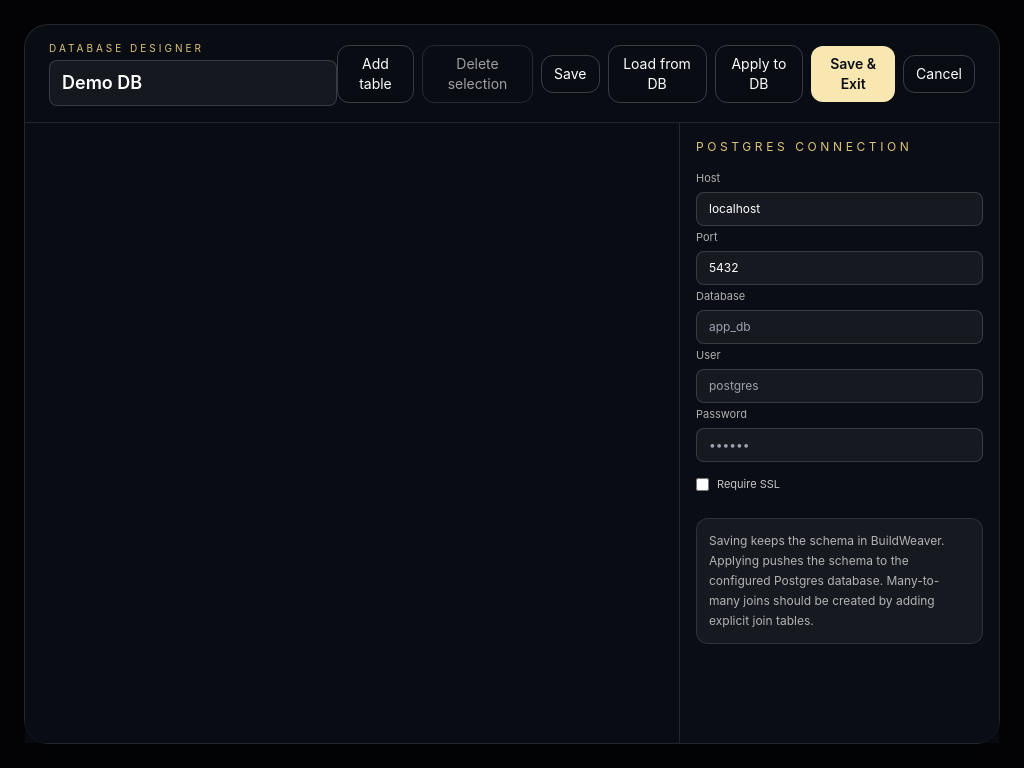
Scenario: DatabaseDesignerModal › applies schema with updated connection settings
Type "db.internal" into the field with placeholder "localhost". click: point(840, 209)
box: left=696, top=192, right=983, bottom=226
Type "6000" into the field with placeholder "5432". click: point(840, 268)
box: left=696, top=251, right=983, bottom=285
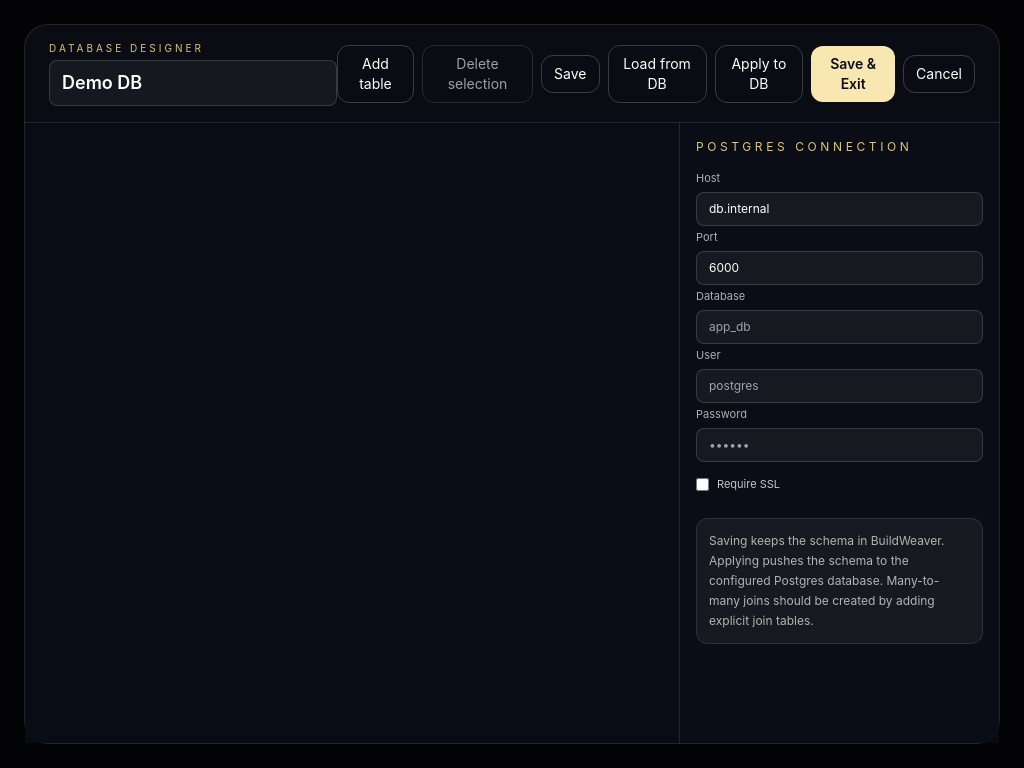
Type "app" into the field with placeholder "app_db". click: point(840, 327)
box: left=696, top=310, right=983, bottom=344
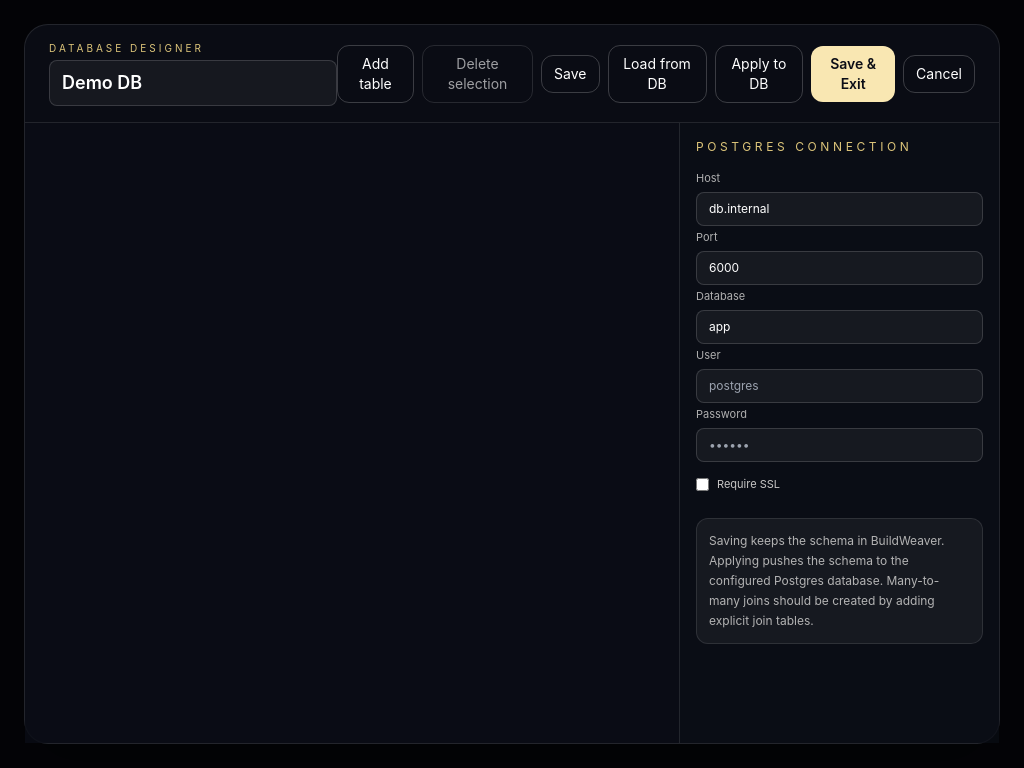
Type "pguser" into the field with placeholder "postgres". click: point(840, 386)
box: left=696, top=369, right=983, bottom=403
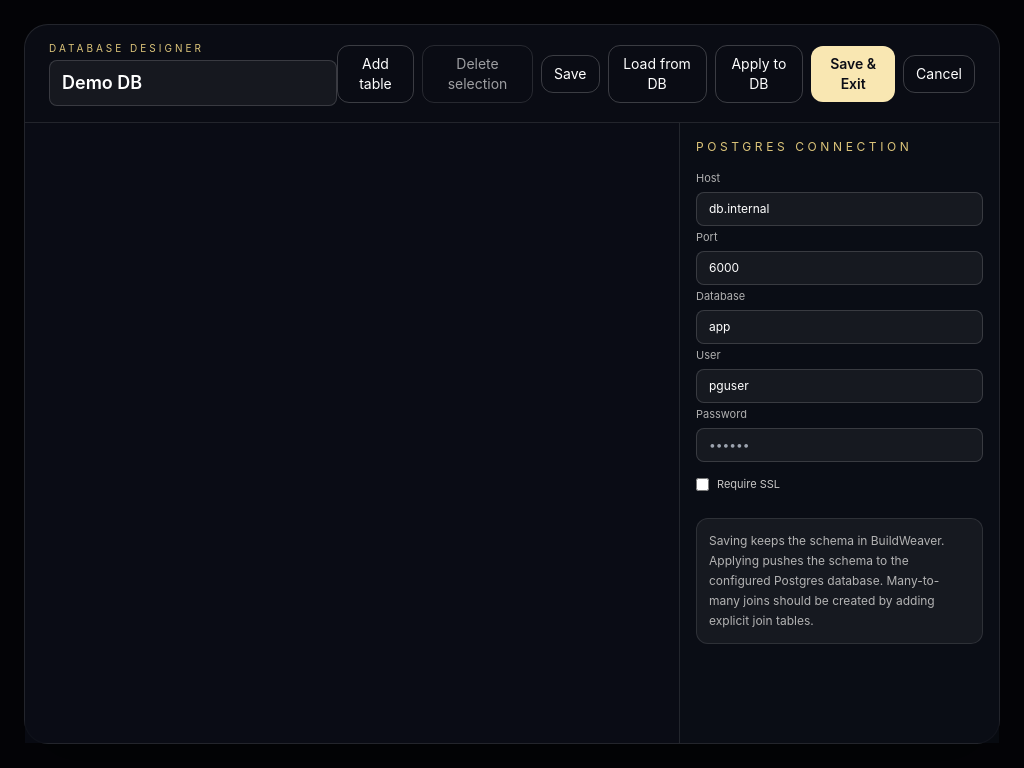
Type "secret" into the password field with placeholder "••••••". click: point(840, 445)
box: left=696, top=428, right=983, bottom=462
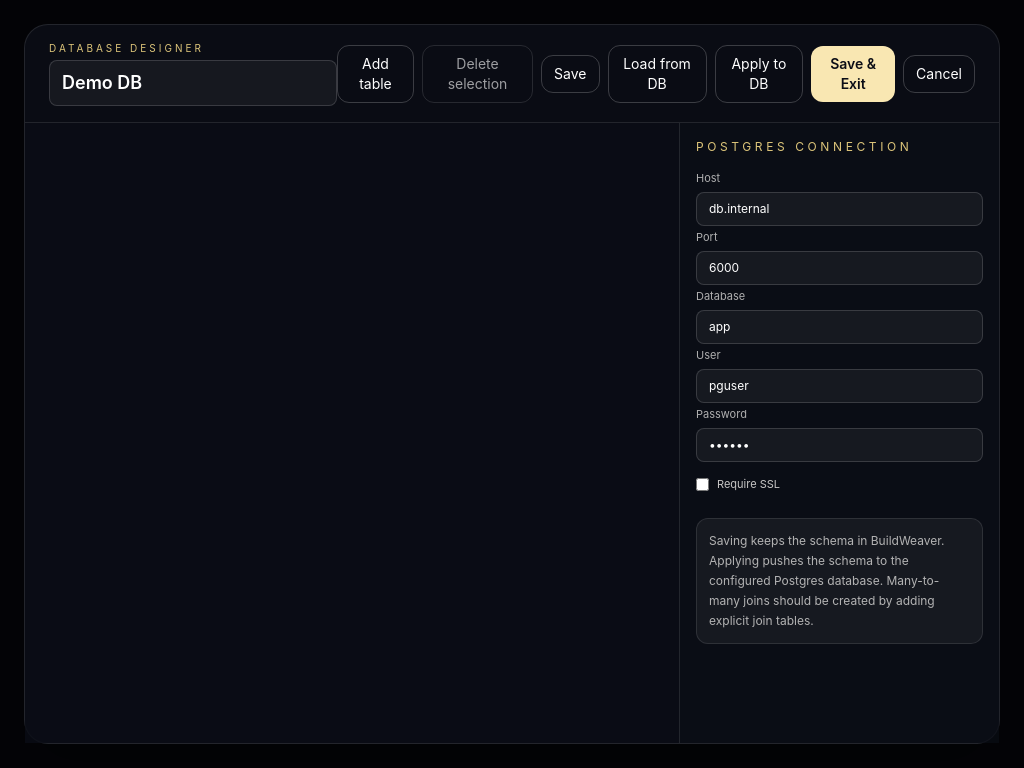
Click the checkbox labelled "Require SSL". click: point(702, 484)
box: left=696, top=478, right=709, bottom=490
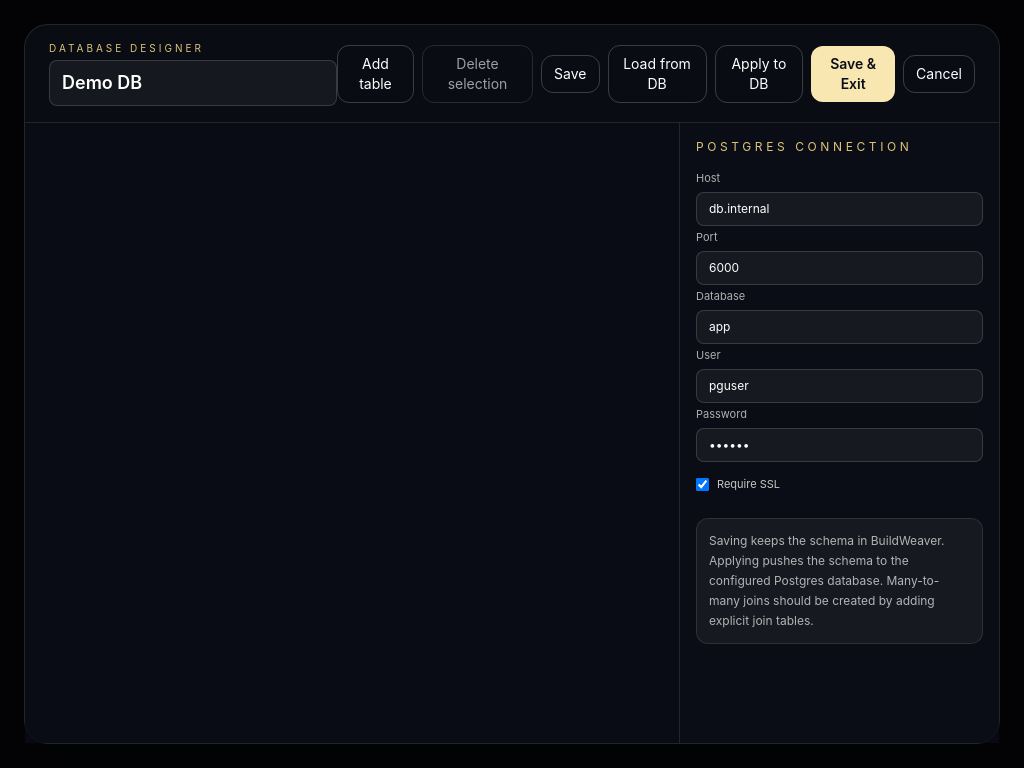
Click the button "Apply to DB". click: point(759, 74)
box: left=714, top=44, right=803, bottom=102
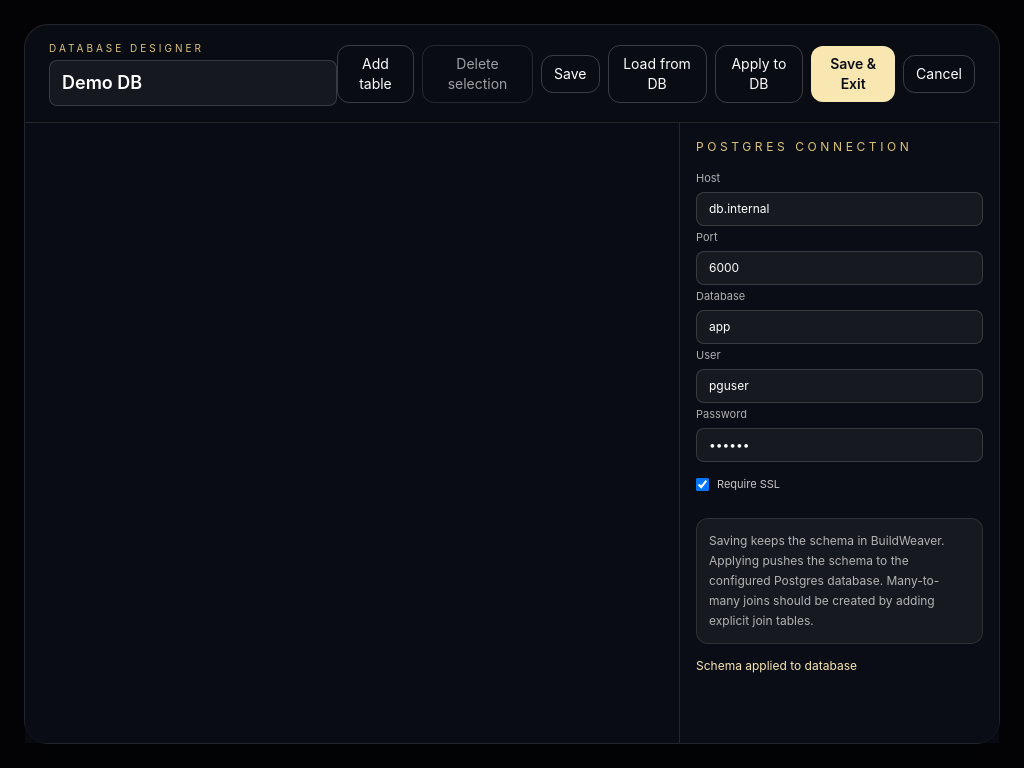
Check: the text "Schema applied to database" is shown, box left=696, top=658, right=857, bottom=673
